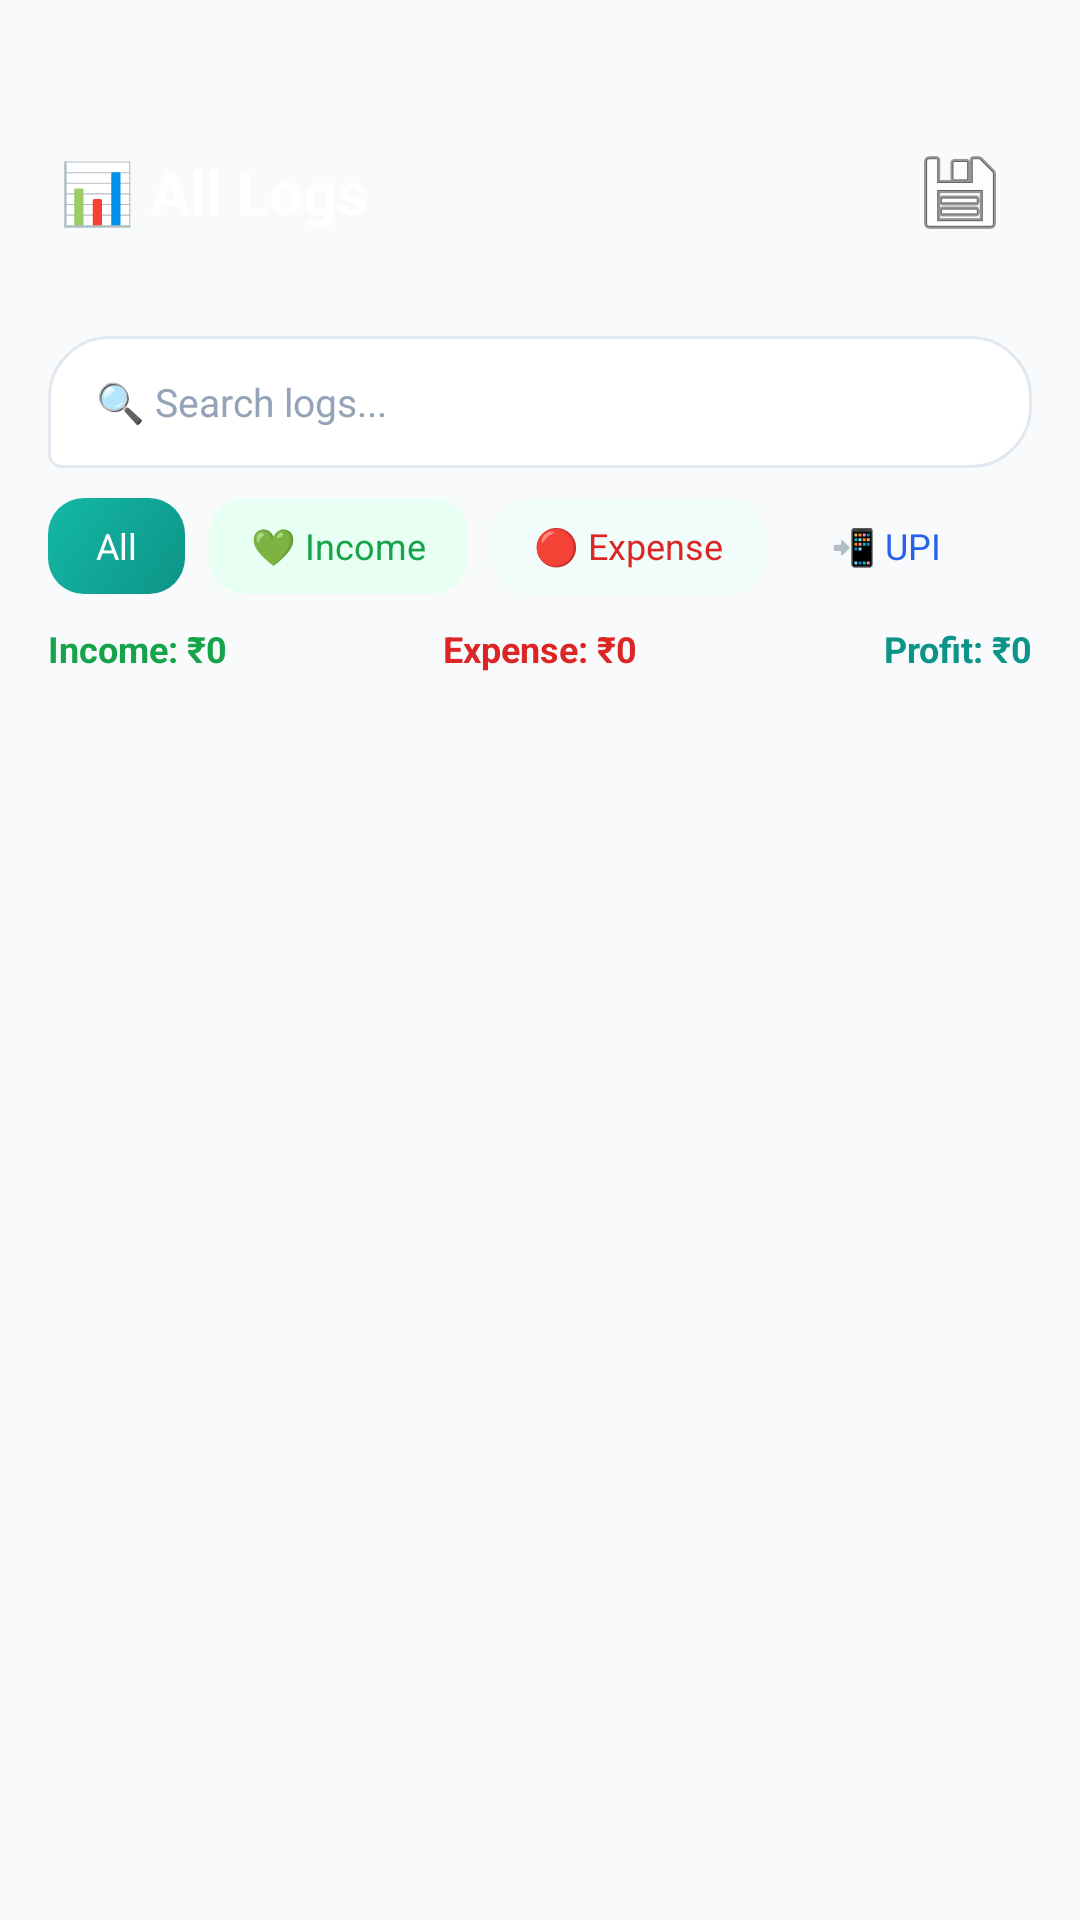

Screen size 1080px x 1920px. Icon name, then its box in pixels as Rect(x1, y1, x2, y2):
Download PDF: Rect(924, 156, 996, 229)
